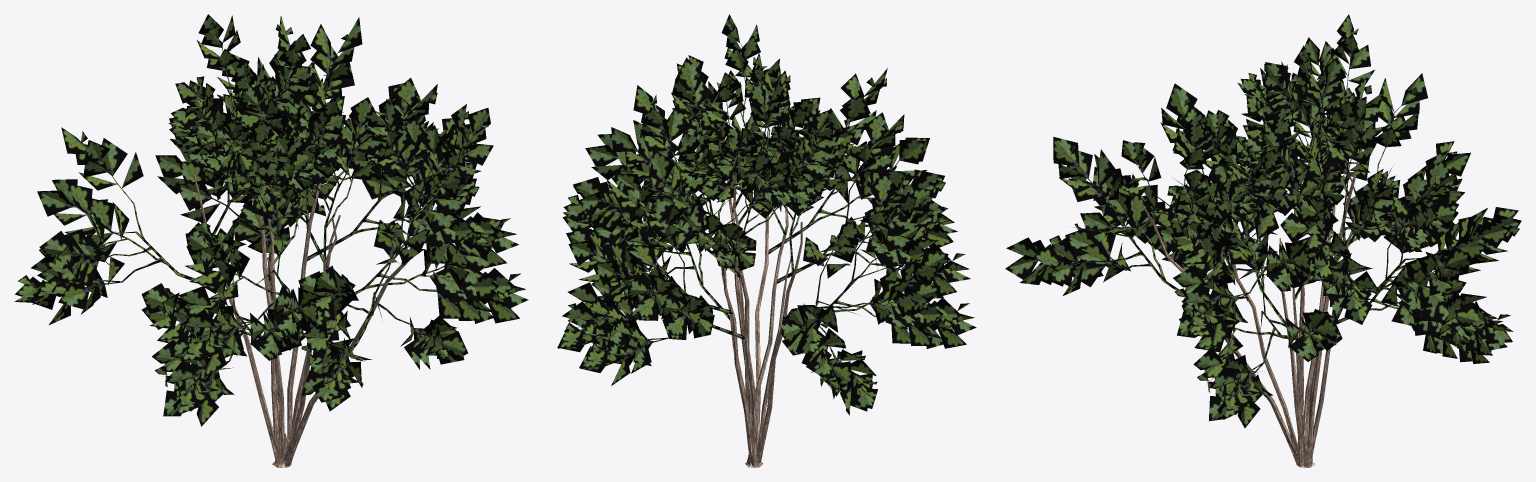
File: plant.fbx
3 renders of one model, left to right at view 1: azimuth 30°, elevation 25°; view 2: azimuth 150°, elevation 25°; view 3: azimuth 270°, elevation 25°, orthographic. The views are drawn at different scales.
Parts seen in each view (by area): view 1: Tree_2_Tree_2Mat_0, Tree_1_Tree_1Mat_0, Tree_0_Tree_0Mat_0, Tree_3_Tree_3Mat_0; view 2: Tree_2_Tree_2Mat_0, Tree_0_Tree_0Mat_0, Tree_1_Tree_1Mat_0, Tree_3_Tree_3Mat_0; view 3: Tree_2_Tree_2Mat_0, Tree_0_Tree_0Mat_0, Tree_1_Tree_1Mat_0, Tree_3_Tree_3Mat_0.
Boxes of the visible parts, x1,y1,x2,y2 form: Tree_2_Tree_2Mat_0: (14, 14, 528, 426); Tree_1_Tree_1Mat_0: (35, 33, 498, 392); Tree_0_Tree_0Mat_0: (193, 132, 433, 467); Tree_3_Tree_3Mat_0: (18, 22, 520, 397); Tree_2_Tree_2Mat_0: (557, 14, 976, 415); Tree_0_Tree_0Mat_0: (716, 125, 802, 467); Tree_1_Tree_1Mat_0: (575, 35, 959, 388); Tree_3_Tree_3Mat_0: (564, 21, 969, 393); Tree_2_Tree_2Mat_0: (1005, 14, 1521, 427); Tree_0_Tree_0Mat_0: (1141, 127, 1363, 467); Tree_1_Tree_1Mat_0: (1026, 54, 1495, 396); Tree_3_Tree_3Mat_0: (1018, 28, 1519, 402).
Size of the model in its own units: 2.85 by 2.89 by 3.17.
3 materials, 3 textured.
